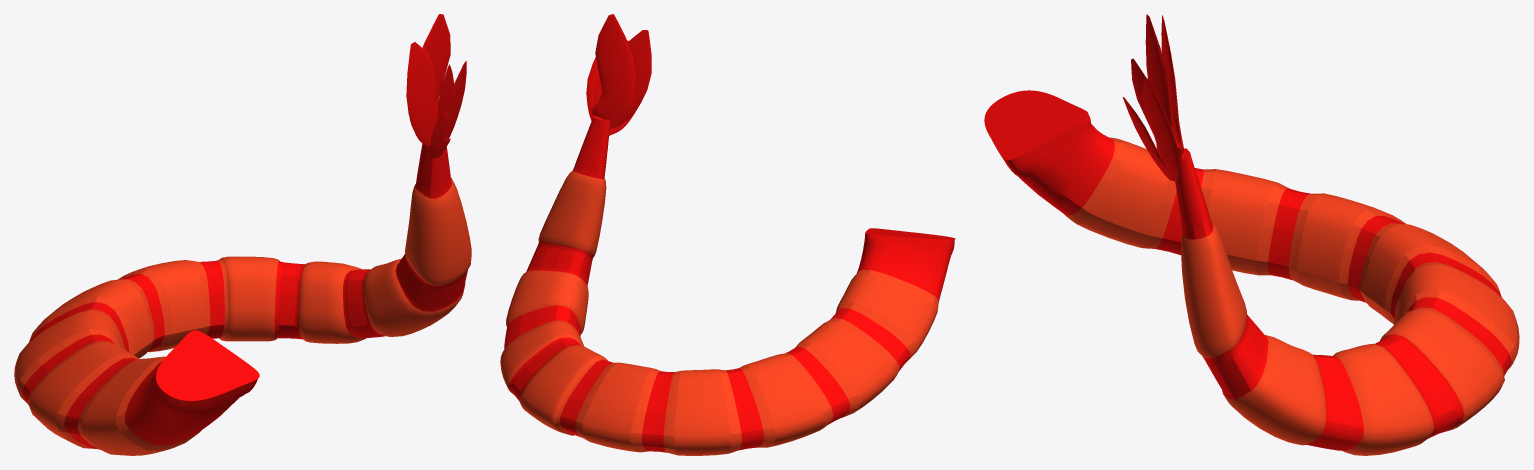
3 views of the same model, side by side, from view 1: azimuth 30°, elevation 25°; view 2: azimuth 150°, elevation 25°; view 3: azimuth 270°, elevation 25° (orthographic). The views are drawn at different scales.
Parts seen in each view (by area): view 1: tail, tail_details; view 2: tail, tail_details; view 3: tail, tail_details.
Boxes of the visible parts, left/top/right/bottom form: tail: left=14, top=144, right=471, bottom=455; tail_details: left=406, top=14, right=466, bottom=158; tail: left=500, top=116, right=955, bottom=455; tail_details: left=586, top=14, right=651, bottom=135; tail: left=984, top=90, right=1519, bottom=455; tail_details: left=1122, top=14, right=1183, bottom=181.
Size of the model in its own units: 101 by 96.46 by 87.94.
